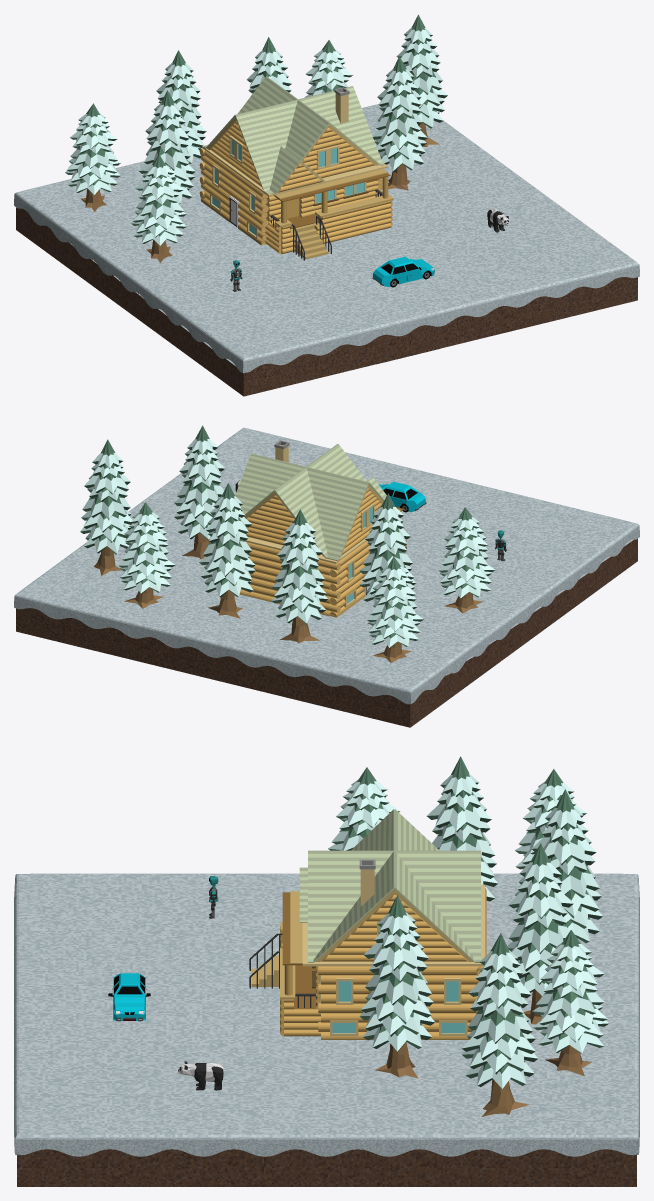
3 renders of one model, top to bottom at view 1: azimuth 30°, elevation 25°; view 2: azimuth 150°, elevation 25°; view 3: azimuth 270°, elevation 25°, orthographic. The views are drawn at different scales.
Parts seen in each view (by area): view 1: Cube.003, Cube.1516, VEHICLES_CAR; view 2: Cube.003, Cube.1516, VEHICLES_CAR; view 3: Cube.003, Cube.1516, VEHICLES_CAR, ANIMAL_PANDA.
Part boxes in pixels (left/top/right/bottom): Cube.003: left=14, top=14, right=639, bottom=396; Cube.1516: left=199, top=76, right=393, bottom=260; VEHICLES_CAR: left=372, top=256, right=434, bottom=287; Cube.003: left=14, top=425, right=639, bottom=727; Cube.1516: left=235, top=440, right=407, bottom=617; VEHICLES_CAR: left=379, top=481, right=426, bottom=512; Cube.003: left=14, top=756, right=639, bottom=1186; Cube.1516: left=249, top=809, right=486, bottom=1039; VEHICLES_CAR: left=108, top=973, right=150, bottom=1021; ANIMAL_PANDA: left=178, top=1061, right=223, bottom=1090.
Size of the model in its own units: 4040 by 1692 by 4040.
40 materials, 4 textured.
